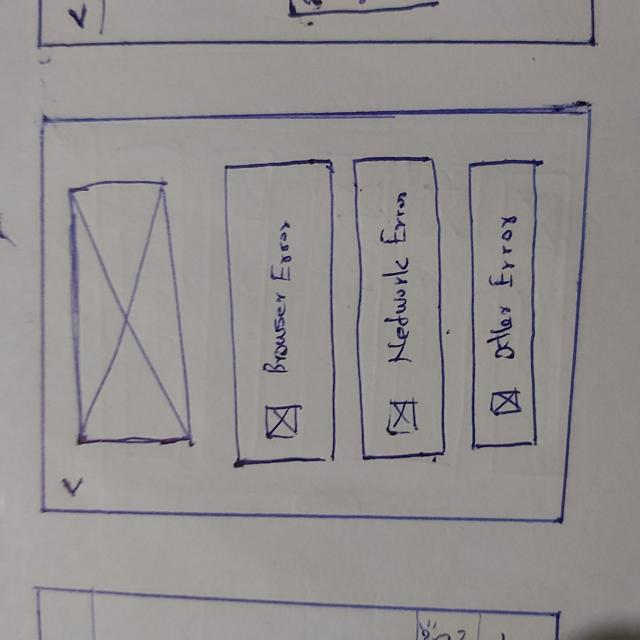BackButton: (60, 474, 88, 499)
CardView: (223, 161, 340, 466), (351, 155, 450, 460), (467, 159, 542, 448)
Image: (65, 181, 194, 445), (385, 398, 419, 435), (264, 404, 301, 436), (491, 389, 522, 415)
ListView: (216, 154, 553, 468)
MainLayout: (35, 105, 593, 528)
TextView: (261, 221, 296, 377), (383, 190, 413, 366), (487, 214, 517, 361)
VerticalListView: (214, 154, 557, 472)
